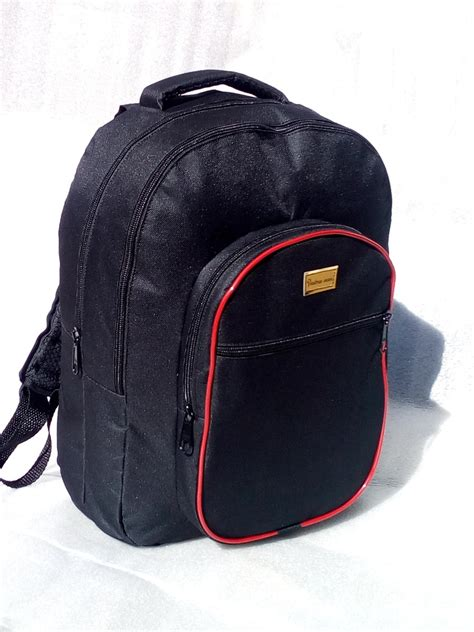nylon: (2, 69, 396, 549)
